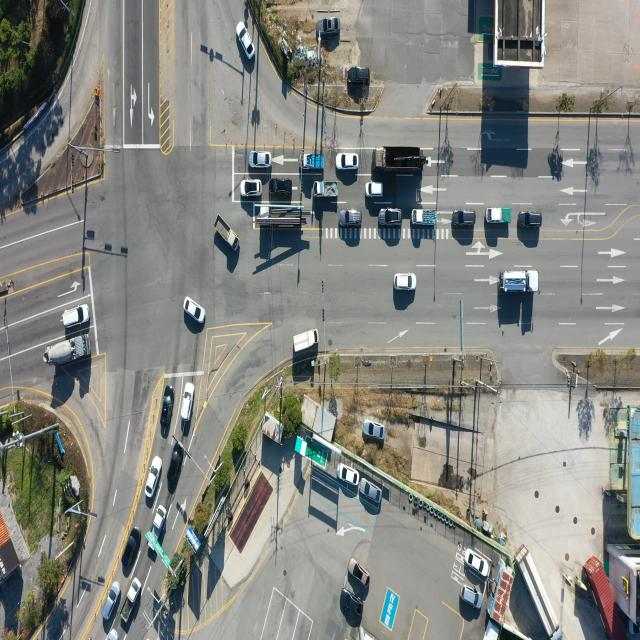car: (167, 442, 186, 491), (123, 530, 143, 573), (102, 581, 120, 622), (145, 456, 162, 499), (62, 304, 90, 330), (467, 549, 490, 579), (235, 19, 253, 57), (341, 586, 362, 618), (183, 298, 205, 326), (349, 560, 371, 588), (160, 394, 172, 440), (359, 479, 381, 504), (460, 586, 482, 610), (184, 380, 197, 420), (338, 463, 360, 485), (379, 207, 403, 227), (315, 18, 340, 37), (340, 209, 364, 228), (362, 420, 384, 440), (519, 211, 543, 228), (336, 152, 358, 170), (395, 274, 417, 292), (454, 210, 476, 228), (270, 181, 293, 198), (251, 150, 272, 168), (242, 179, 262, 197), (350, 66, 370, 84), (365, 184, 383, 200), (106, 626, 117, 640)
medium_truck: (519, 546, 561, 638), (44, 333, 90, 369), (372, 144, 425, 174), (252, 204, 304, 230), (500, 270, 539, 294)
small_truck: (213, 213, 239, 250), (148, 504, 168, 552), (122, 576, 142, 622), (291, 330, 317, 356), (412, 209, 437, 227), (316, 183, 341, 201), (487, 207, 511, 224), (303, 155, 325, 172)
